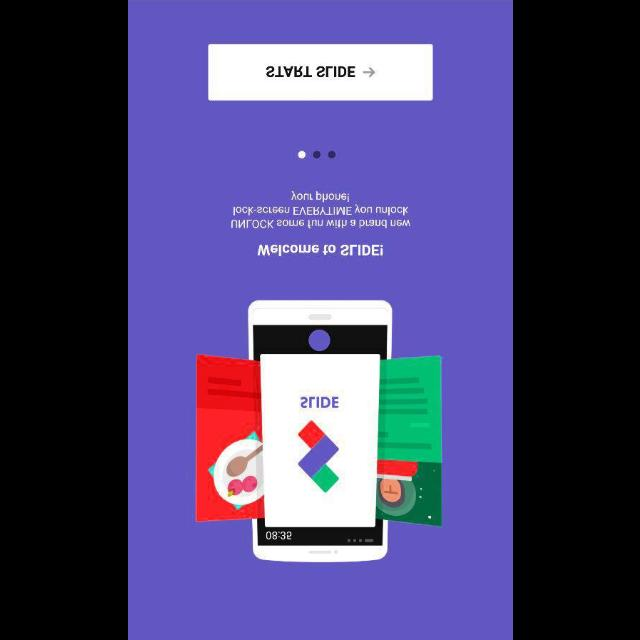image: (195, 300, 442, 562)
pageindicator: (296, 148, 336, 160)
text: (230, 190, 410, 230), (256, 244, 384, 256)
textbutton: (207, 44, 433, 100)
